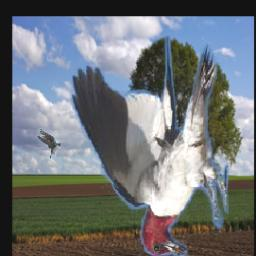Swallow: (36, 129, 60, 161)
Woodpecker: (70, 36, 229, 256)
